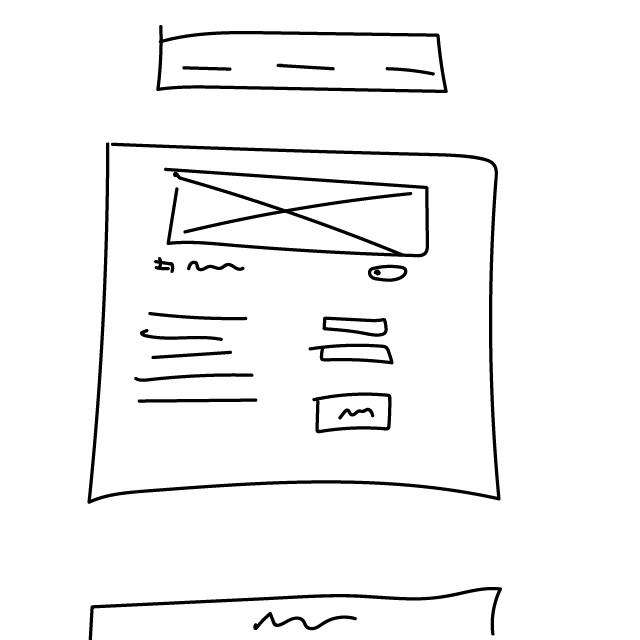button: (311, 387, 401, 435)
checkbox: (367, 265, 411, 282)
container: (77, 127, 513, 533)
footer: (85, 581, 507, 640)
frame: (159, 165, 436, 264)
heading: (150, 254, 253, 281)
input: (311, 339, 399, 369), (321, 315, 391, 341)
nav: (156, 22, 452, 100)
text: (132, 308, 264, 411)
